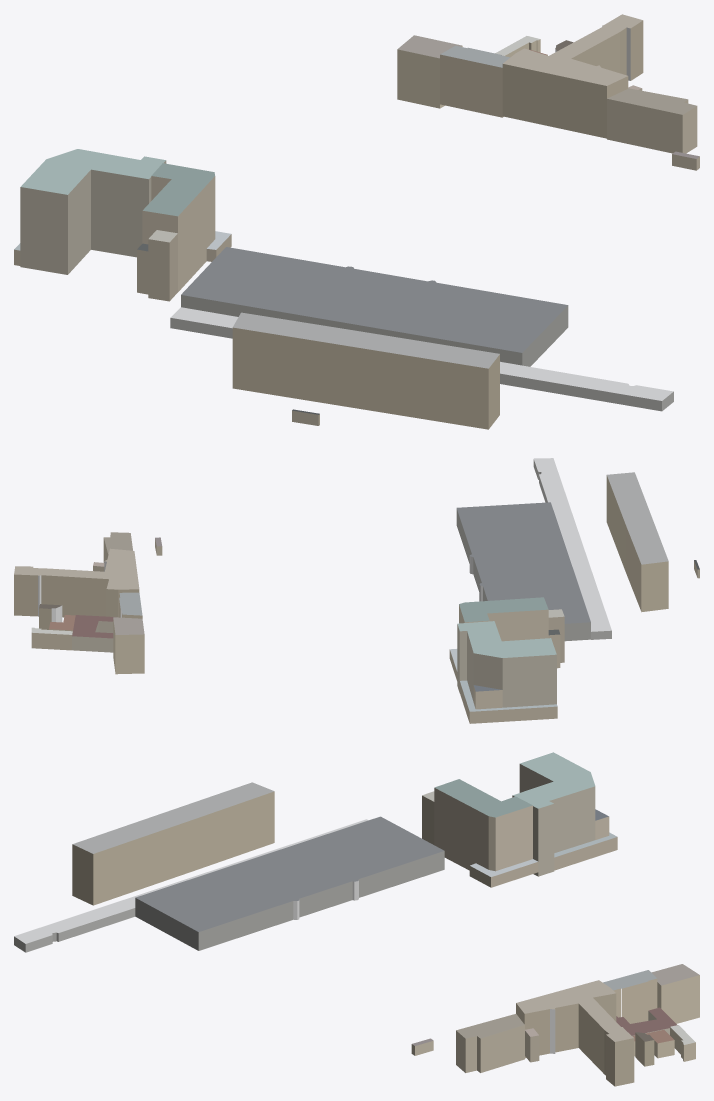
The picture shows the model from 3 angles, top to bottom: view 1: azimuth 30°, elevation 25°; view 2: azimuth 150°, elevation 25°; view 3: azimuth 270°, elevation 25°; orthographic projection. The views are drawn at different scales.
Parts seen in each view (by area): view 1: tuile; view 2: tuile; view 3: tuile.
Boxes of the visible parts, <box> form: tuile: <box>14,14,699,429</box>; tuile: <box>14,458,699,723</box>; tuile: <box>14,752,699,1086</box>.
Bounding box in the file's own units: 298 × 34.84 × 316.
